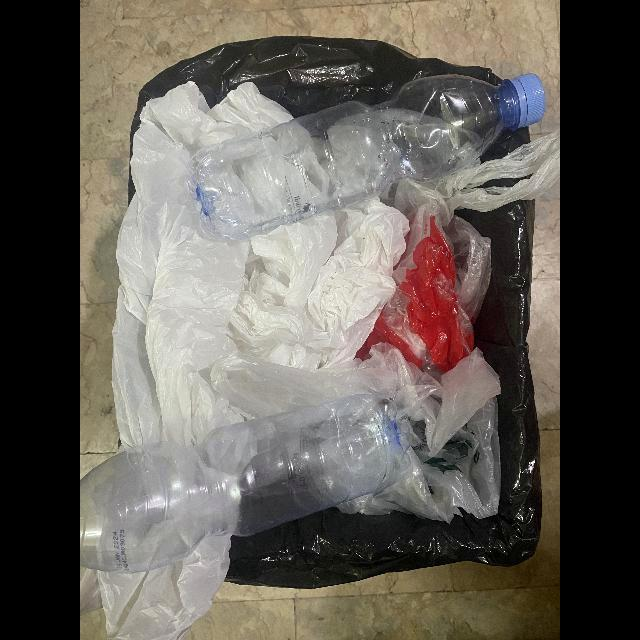plastic_bag: (113, 81, 407, 447), (209, 343, 501, 524), (356, 204, 491, 384), (379, 128, 560, 227)
plastic_bottle: (190, 74, 546, 241), (80, 394, 410, 574)
